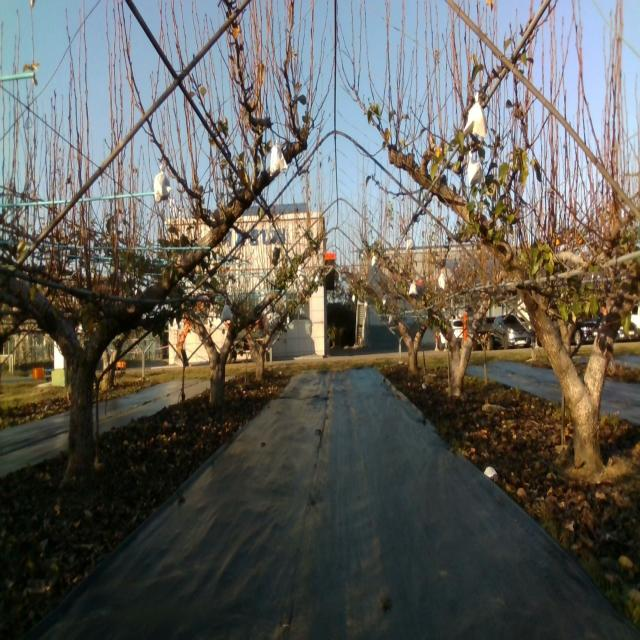pearbags: (462, 94, 489, 139), (467, 148, 485, 186), (270, 140, 288, 178), (153, 165, 170, 203), (221, 301, 232, 322), (266, 227, 277, 244)
